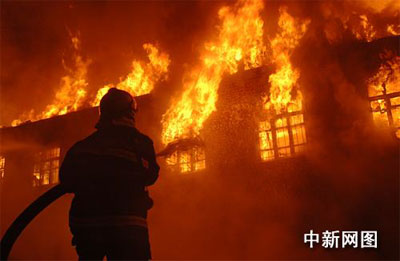fire: (213, 12, 275, 65), (164, 84, 213, 136), (268, 72, 298, 109), (122, 65, 154, 90)
